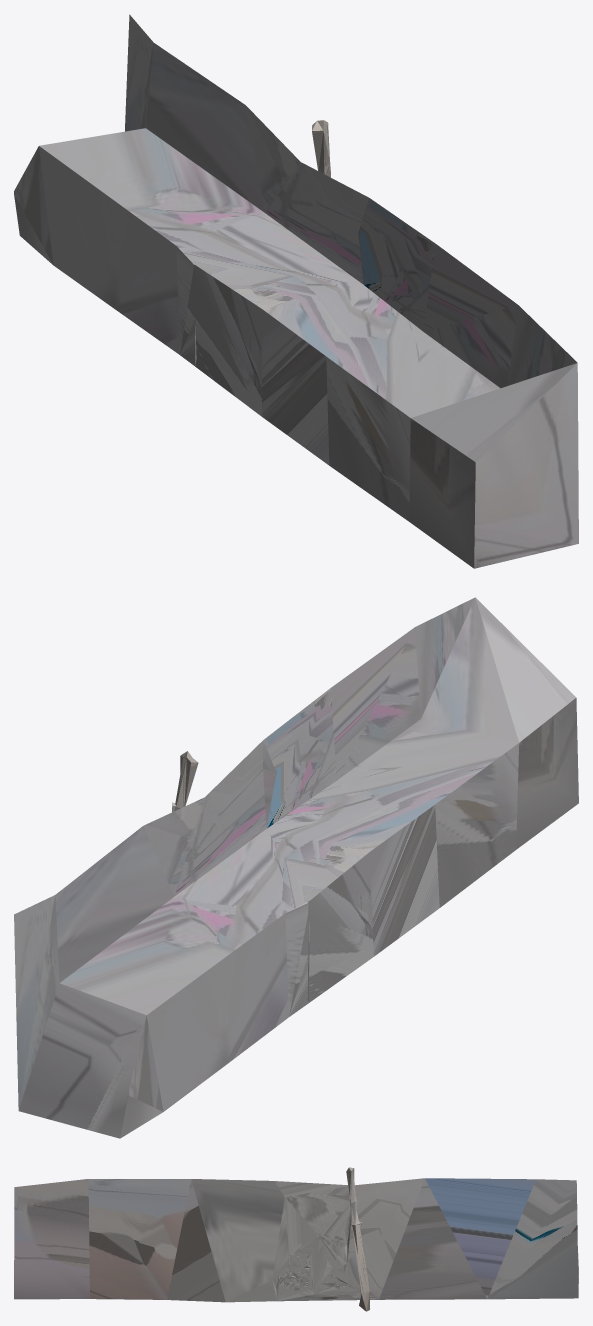
3 views of the same model, one above another, from view 1: azimuth 30°, elevation 25°; view 2: azimuth 150°, elevation 25°; view 3: azimuth 270°, elevation 25° (orthographic). The views are drawn at different scales.
Visible parts, largest first — view 1: k10; view 2: k10; view 3: k10.
Boxes of the visible parts, left/top/right/bottom form: k10: left=14, top=14, right=578, bottom=568; k10: left=14, top=597, right=578, bottom=1138; k10: left=14, top=1167, right=578, bottom=1311.
Size of the model in its own units: 4.65 by 6.55 by 24.12.
1 material, 1 textured.
